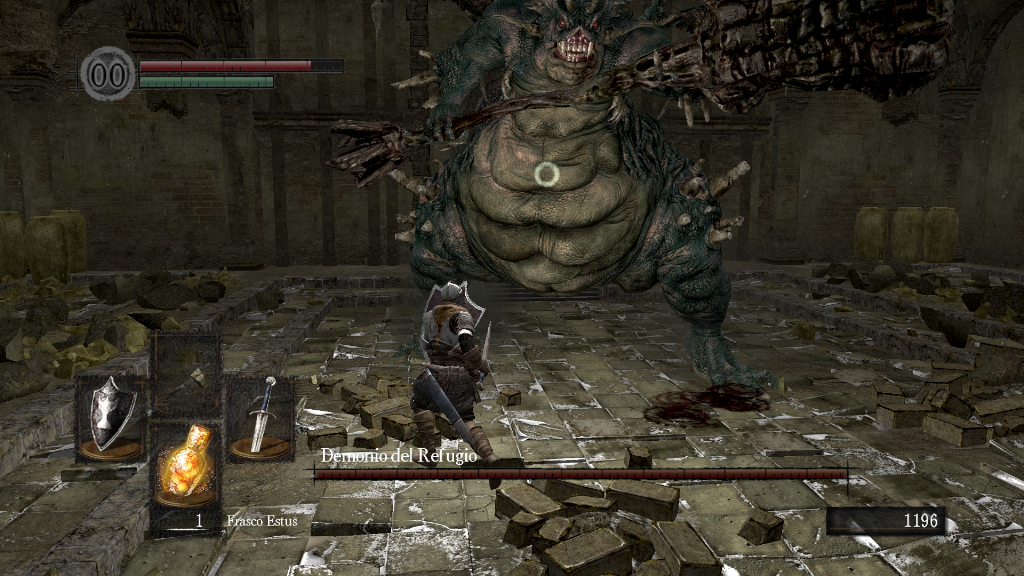asylumDemon: (324, 1, 954, 390)
bossHP: (314, 469, 847, 479)
health: (138, 58, 343, 71)
humanity: (80, 45, 136, 102)
player: (409, 278, 503, 465)
souls: (825, 506, 945, 536)
stamina: (138, 74, 274, 88)
